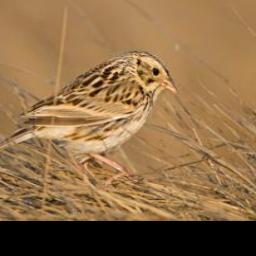Sparrow: (0, 49, 182, 190)
